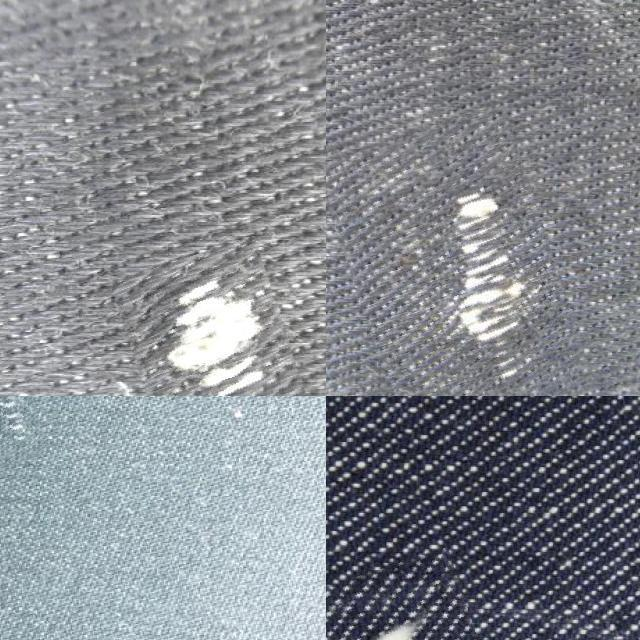stains: (335, 116, 574, 396), (121, 245, 299, 396), (326, 559, 478, 640)
